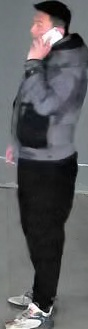phone: (12, 0, 80, 105)
